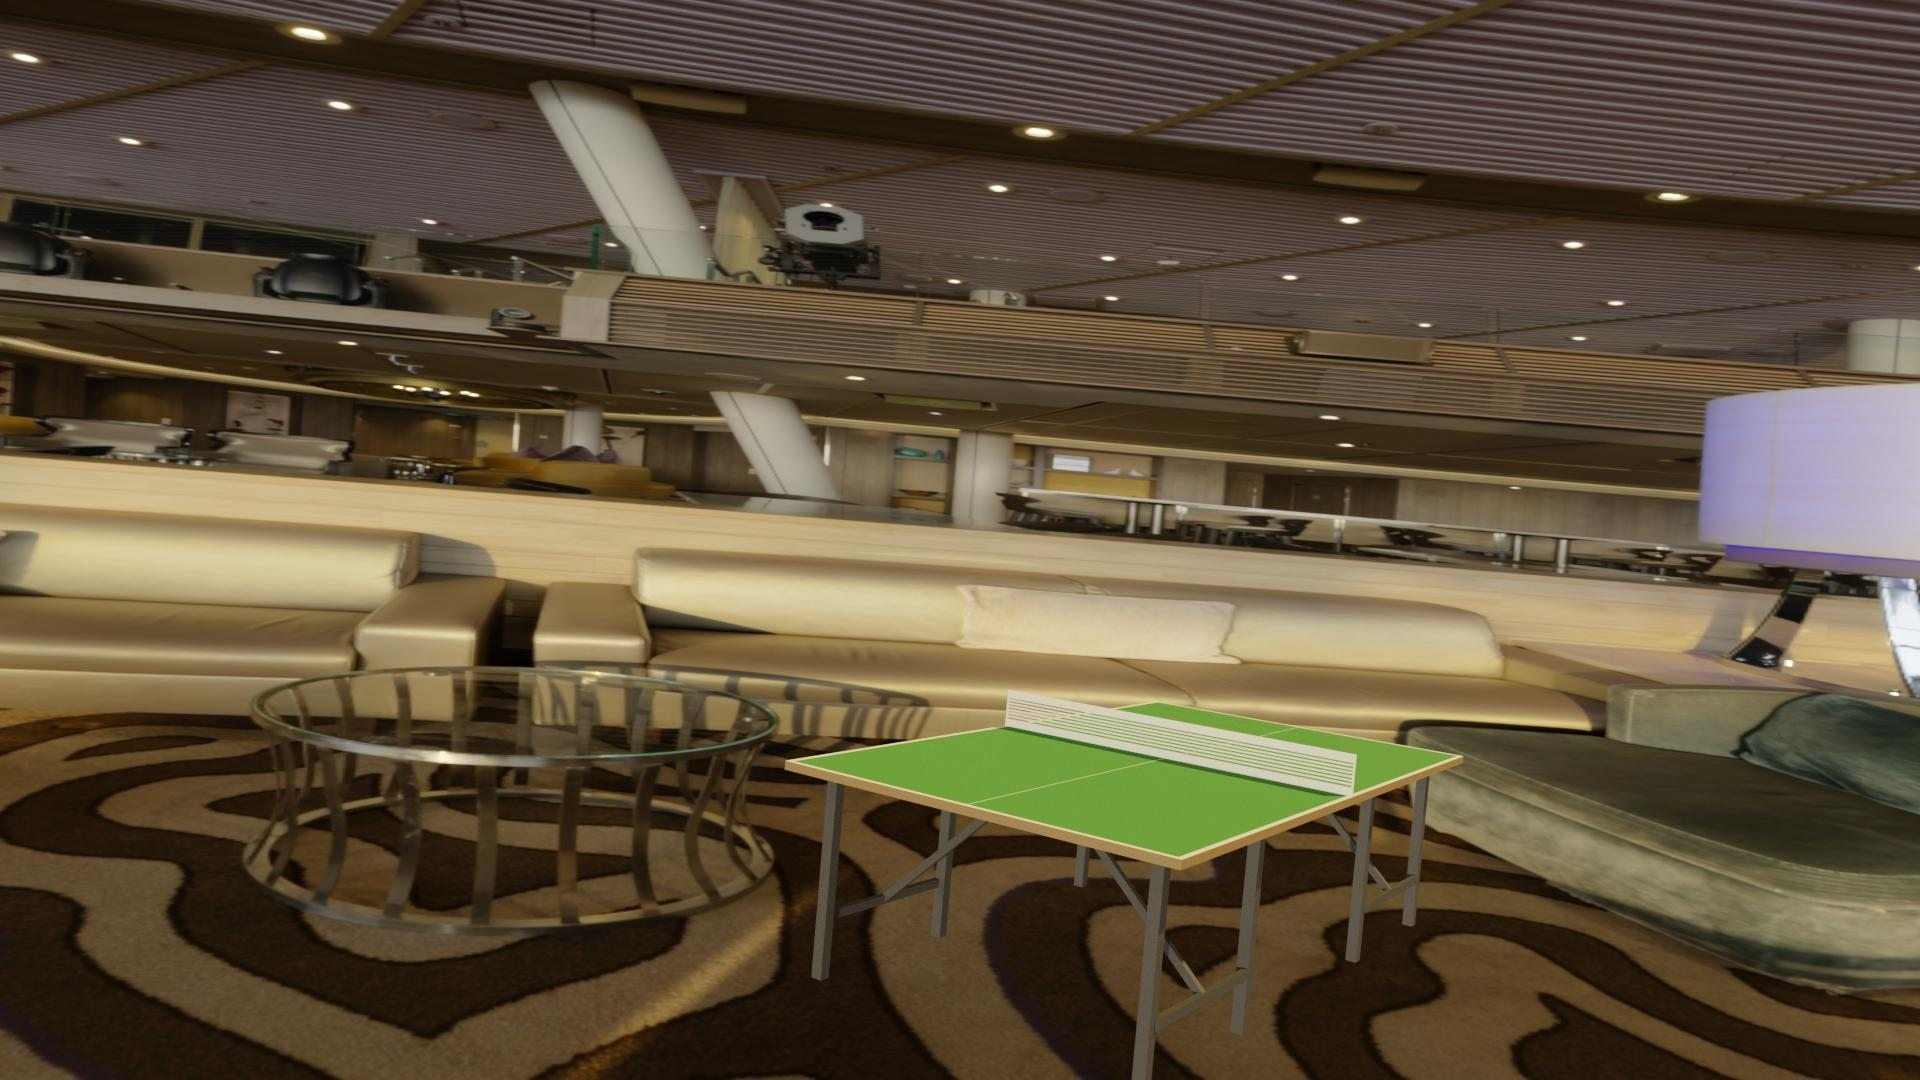table: (794, 703, 1457, 857)
